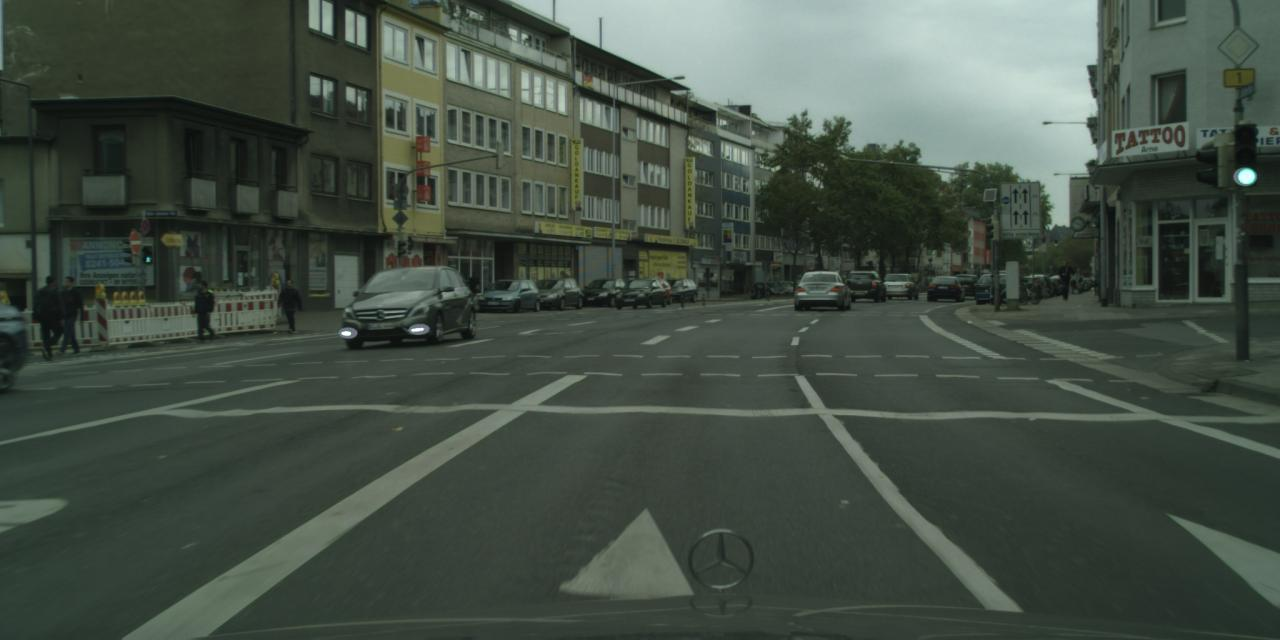ped: (31, 274, 66, 358), (51, 276, 84, 355), (192, 278, 216, 340), (280, 279, 300, 330), (1057, 260, 1072, 299), (466, 271, 480, 306), (1076, 275, 1083, 294)
